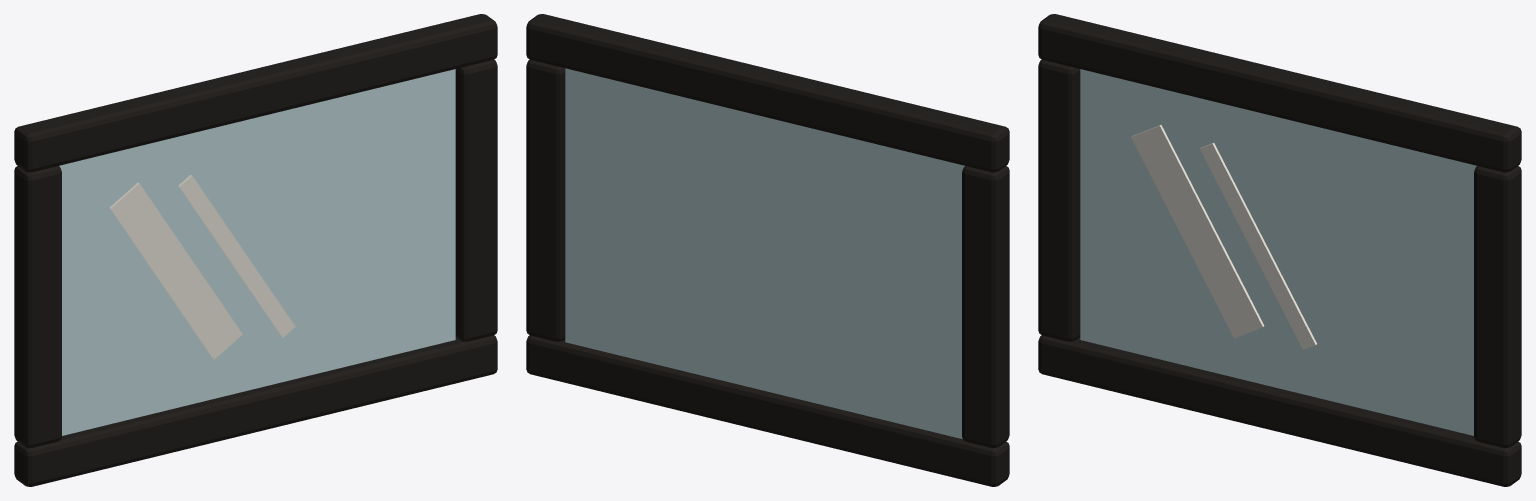
Rendered from hh_cat_wall_mirror.glb.
3 renders of one model, left to right at view 1: azimuth 30°, elevation 25°; view 2: azimuth 150°, elevation 25°; view 3: azimuth 330°, elevation 25°, orthographic.
Visible parts, largest first — view 1: mirror, frame.001, frame, frame.002, frame.003, mirror_glint, mirror_glint.001; view 2: mirror, frame.001, frame, frame.002, frame.003; view 3: mirror, frame.001, frame, frame.003, frame.002, mirror_glint, mirror_glint.001.
Part boxes in pixels (bbox=[...]): mirror: bbox=[59, 69, 455, 435]; frame.001: bbox=[14, 14, 497, 172]; frame: bbox=[14, 335, 497, 486]; frame.002: bbox=[14, 166, 61, 447]; frame.003: bbox=[455, 59, 497, 341]; mirror_glint: bbox=[109, 182, 242, 359]; mirror_glint.001: bbox=[178, 175, 295, 337]; mirror: bbox=[565, 68, 964, 438]; frame.001: bbox=[526, 14, 1009, 172]; frame: bbox=[526, 335, 1009, 486]; frame.002: bbox=[962, 166, 1009, 447]; frame.003: bbox=[526, 59, 565, 341]; mirror: bbox=[1080, 69, 1476, 435]; frame.001: bbox=[1038, 14, 1521, 172]; frame: bbox=[1038, 335, 1521, 486]; frame.003: bbox=[1474, 166, 1521, 447]; frame.002: bbox=[1038, 59, 1080, 341]; mirror_glint: bbox=[1131, 125, 1264, 338]; mirror_glint.001: bbox=[1200, 142, 1316, 349].
Size of the model in its own units: 0.7 by 0.5 by 0.04.
